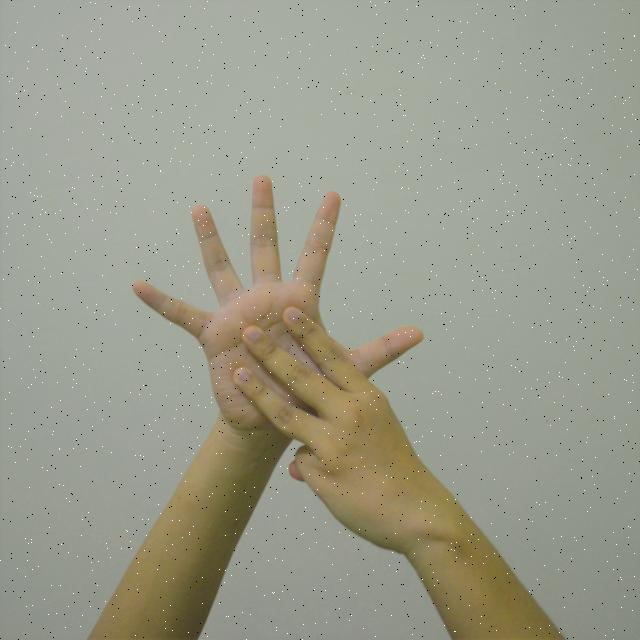M: (124, 163, 433, 519)
